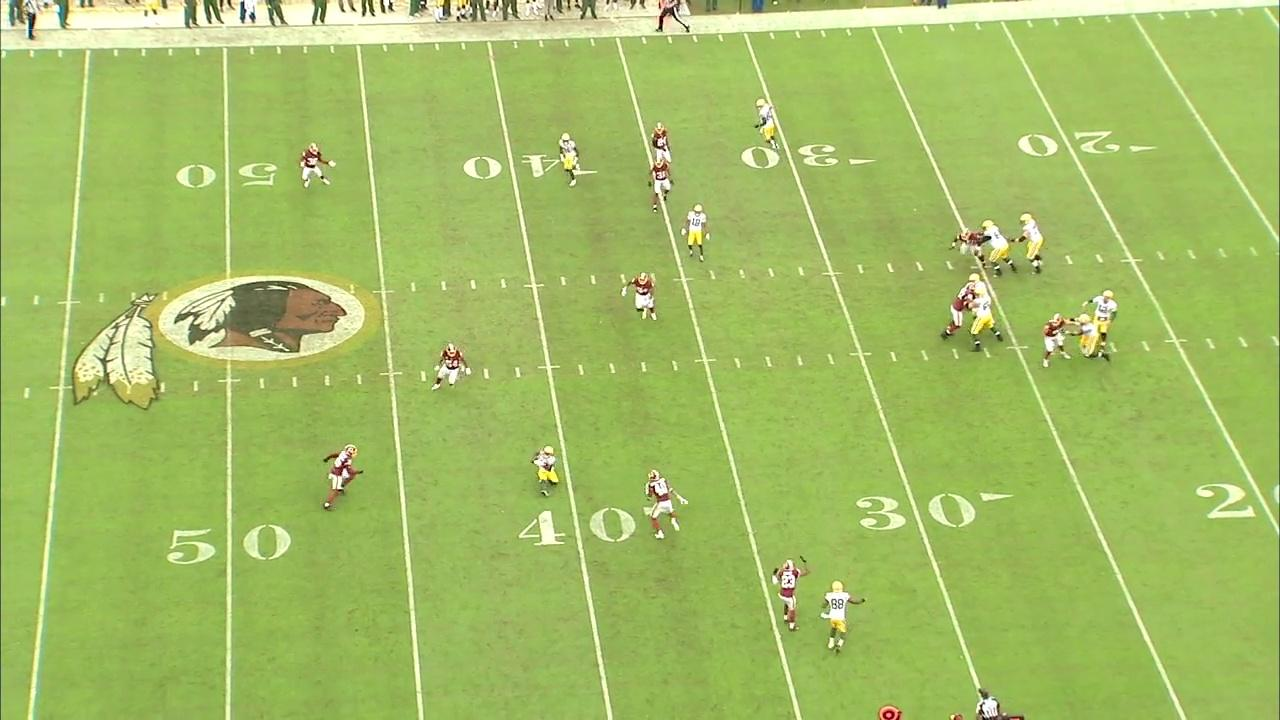player: (321, 442, 368, 517), (770, 552, 814, 631), (821, 572, 856, 658), (639, 465, 680, 538), (969, 290, 1004, 354), (429, 342, 471, 394), (980, 219, 1018, 274), (940, 281, 973, 342), (625, 269, 660, 323), (296, 140, 333, 191), (1072, 312, 1110, 358), (529, 444, 562, 495), (1020, 210, 1046, 274), (1040, 314, 1068, 370), (555, 132, 581, 186), (755, 98, 780, 150), (684, 203, 707, 256), (1090, 287, 1118, 325), (651, 160, 672, 208), (952, 226, 978, 261), (650, 119, 671, 161), (968, 274, 992, 305)
ref: (976, 689, 1000, 720)
